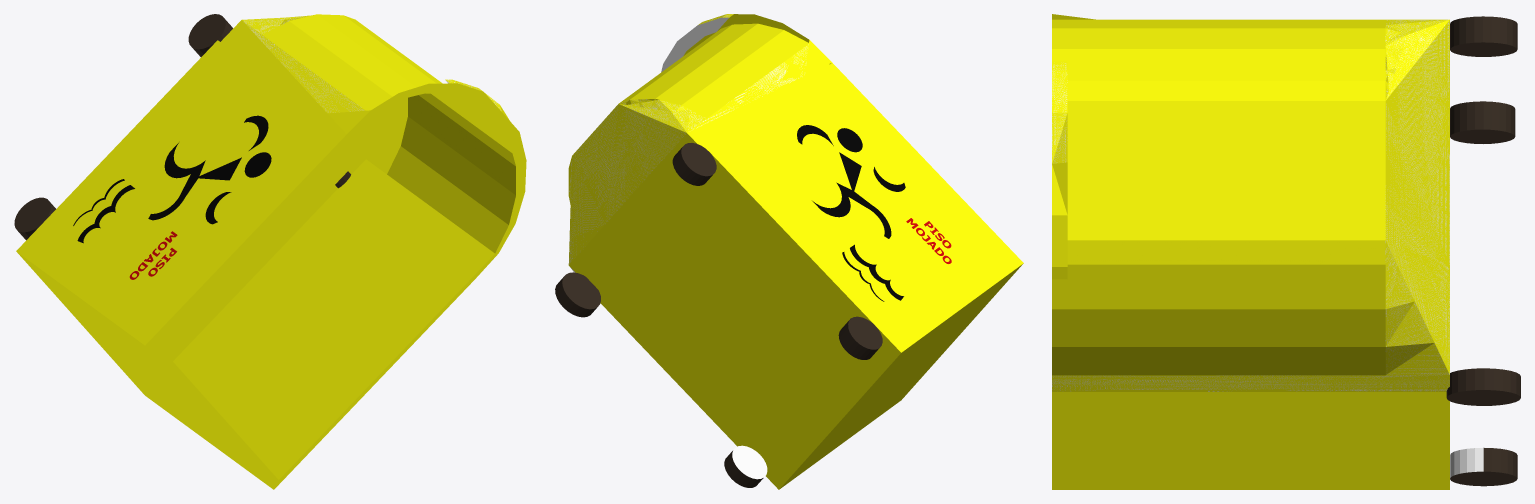
3 renders of one model, left to right at view 1: azimuth 30°, elevation 25°; view 2: azimuth 150°, elevation 25°; view 3: azimuth 270°, elevation 25°, orthographic. The views are drawn at different scales.
Visible parts, largest first — view 1: mop bucket; view 2: mop bucket; view 3: mop bucket.
Part boxes in pixels (x1,y1,x2,y2): mop bucket: [14, 14, 526, 489]; mop bucket: [555, 14, 1023, 489]; mop bucket: [1052, 14, 1520, 489].
Size of the model in its own units: 19.15 by 17.67 by 13.21.
